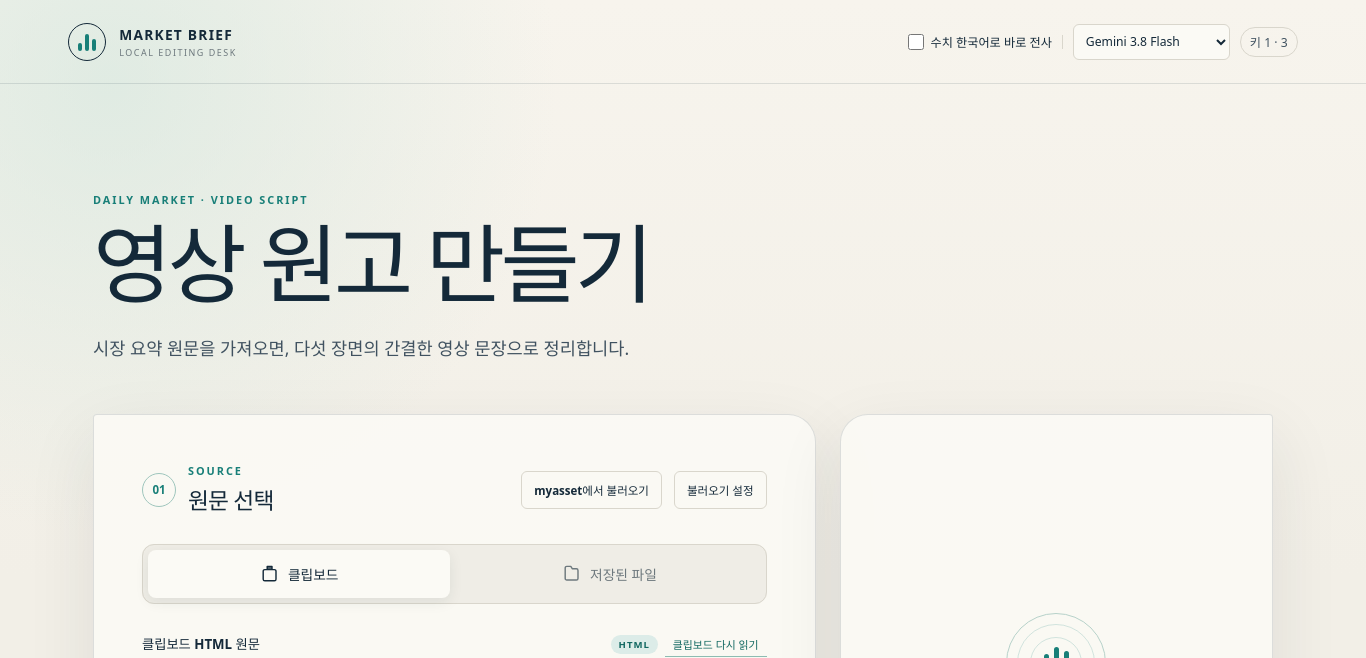
App › myasset에서 불러오기: 409 응답의 작업 ID를 보존하고 이미 진행 중인 작업을 복원한다
Expected: the heading "영상 원고 만들기" is shown, [93,204,649,321]
Click the button "myasset에서 불러오기". click: (592, 490)
box: [521,470,662,508]
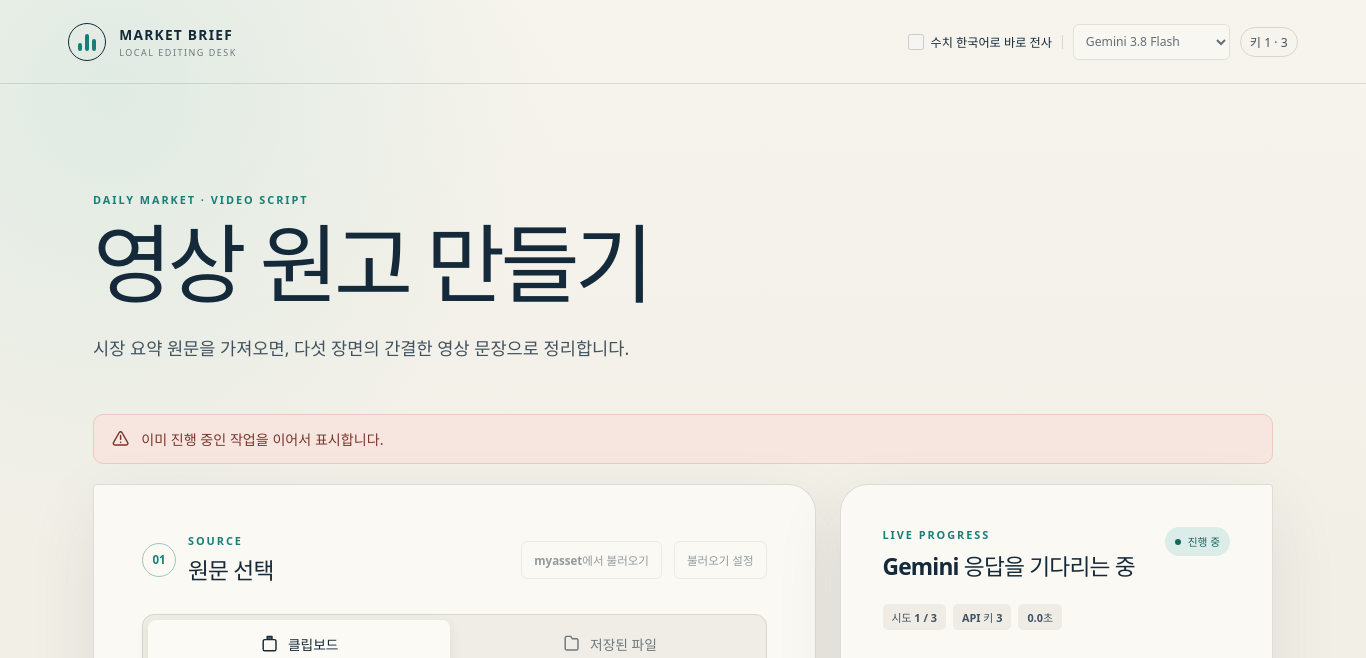
Expected: the heading "Gemini 응답을 기다리는 중" is shown, [882,549,1135,582]
Expected: the message "이미 진행 중인 작업을 이어서 표시합니다." is shown, [93,414,1273,464]
